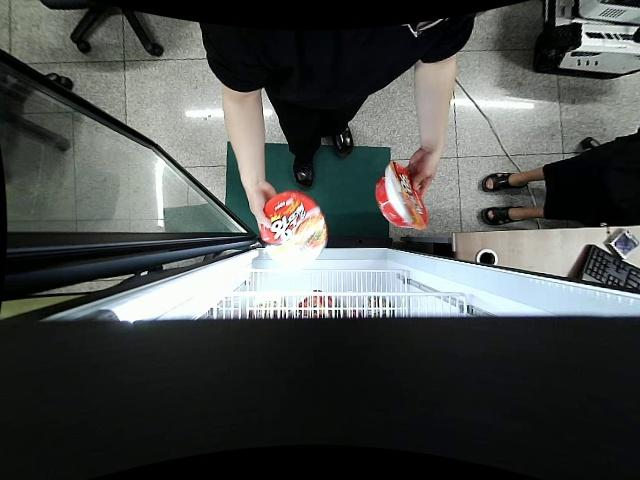00_hand: (406, 149, 442, 197), (247, 180, 278, 230)
10_wangTtukkeong: (261, 192, 326, 261), (375, 161, 429, 233)
